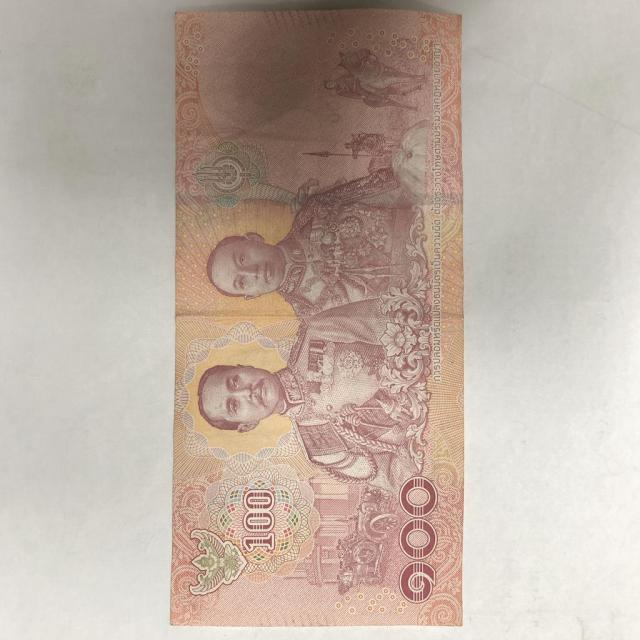THAI100: (171, 9, 464, 628)
